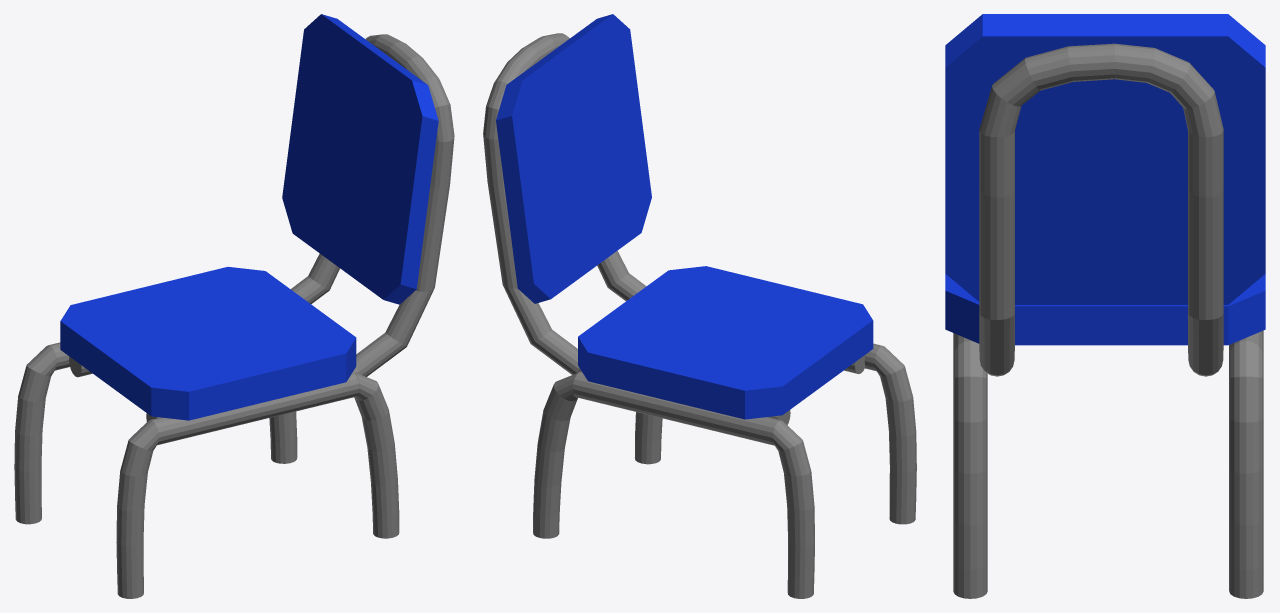
Rendered from Silla.fbx.
3 renders of one model, left to right at view 1: azimuth 30°, elevation 25°; view 2: azimuth 150°, elevation 25°; view 3: azimuth 270°, elevation 25°, orthographic. The views are drawn at different scales.
Parts seen in each view (by area): view 1: Madera, Barillas; view 2: Madera, Barillas; view 3: Madera, Barillas.
Boxes of the visible parts, x1,y1,x2,y2 form: Madera: (60, 14, 438, 420); Barillas: (14, 34, 454, 598); Madera: (496, 14, 873, 419); Barillas: (483, 33, 916, 598); Madera: (945, 14, 1265, 345); Barillas: (953, 43, 1263, 598).
Size of the model in its own units: 508 by 622 by 302.
